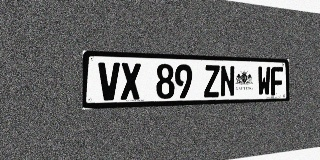8: (156, 64, 174, 99)
9: (175, 64, 192, 98)
F: (271, 67, 283, 96)
N: (220, 65, 235, 97)
V: (98, 62, 120, 101)
W: (258, 66, 271, 96)
X: (121, 63, 141, 100)
Z: (204, 65, 220, 97)
